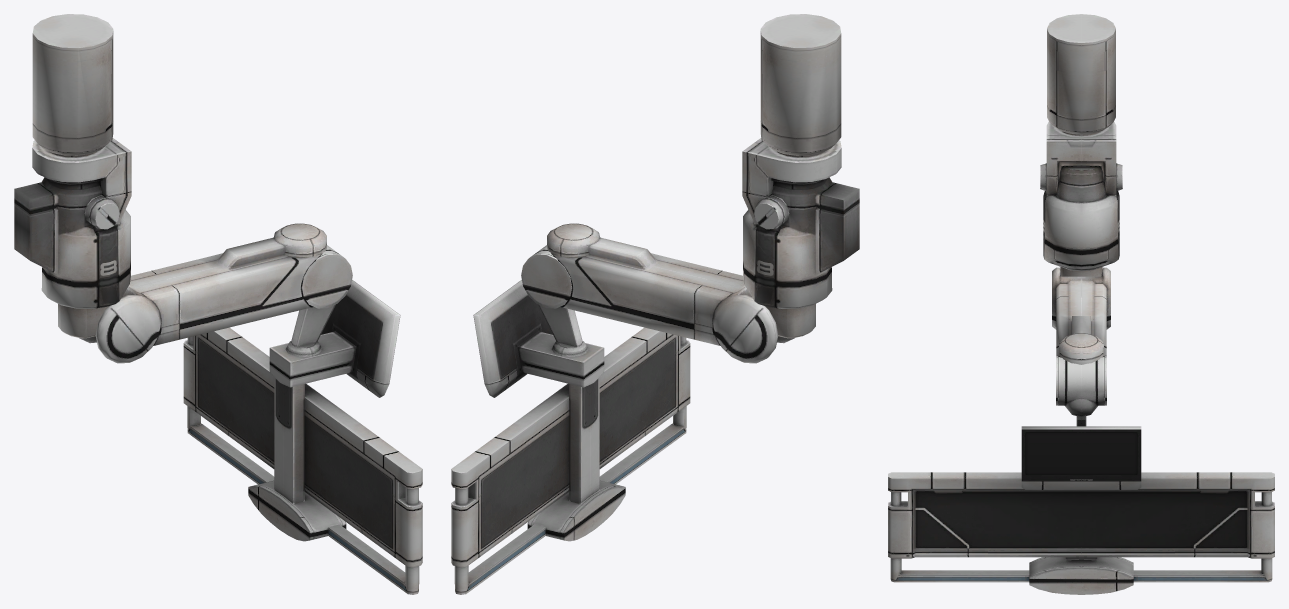
The model's file is EquipmentLab08.FBX.
3 views of the same model, side by side, from view 1: azimuth 30°, elevation 25°; view 2: azimuth 150°, elevation 25°; view 3: azimuth 270°, elevation 25° (orthographic). The views are drawn at different scales.
Visible parts, largest first — view 1: EquipmentLab08; view 2: EquipmentLab08; view 3: EquipmentLab08.
Part boxes in pixels (x1,y1,x2,y2): EquipmentLab08: (14,14,422,594); EquipmentLab08: (451,14,859,594); EquipmentLab08: (888,14,1274,594).
Bounding box in the file's own units: 1.68 × 2.57 × 1.93.
